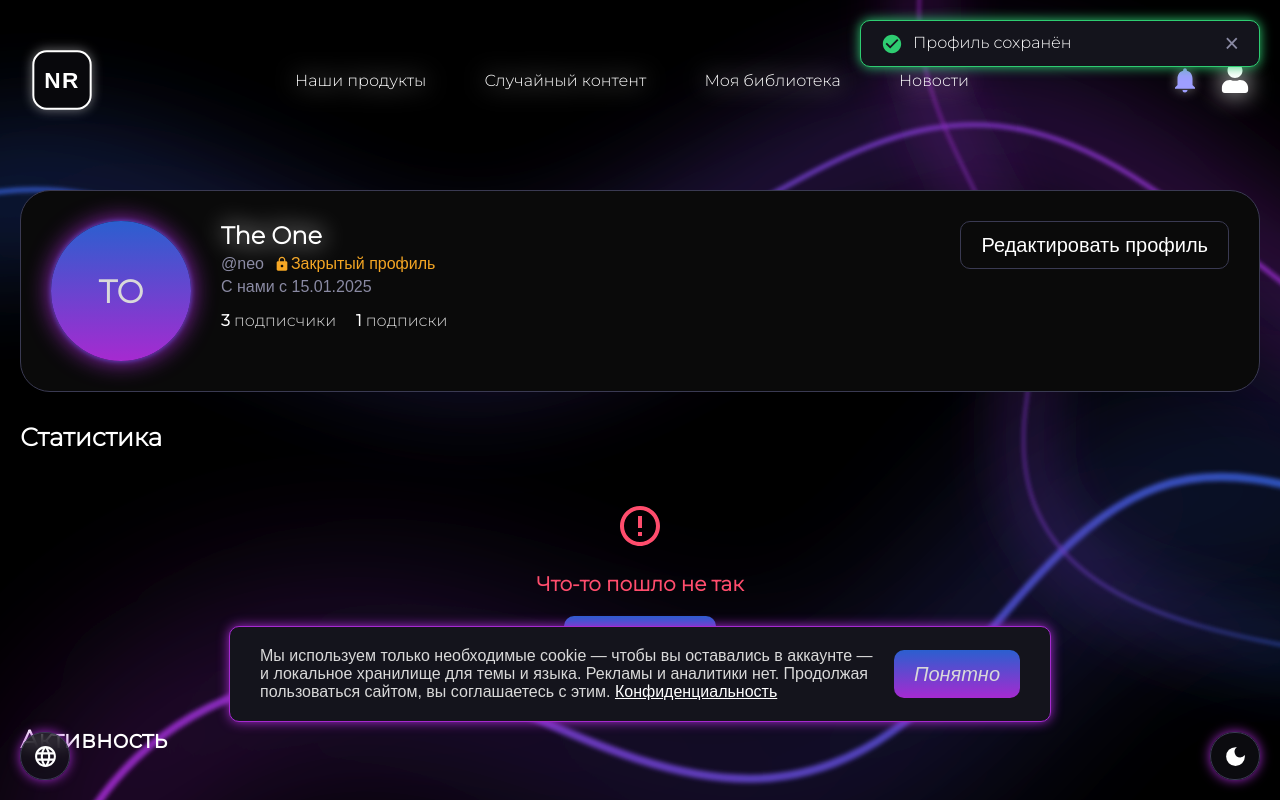
it: Own profile › edits the profile and updates the session user
This screenshot has width=1280, height=800.
Earlier steps of the test are not shown.
Expected: the heading "The One" is shown, [221,221,322,250]
Click the button named "Меню профиля neo": (1235, 80) [1220,63,1250,96]
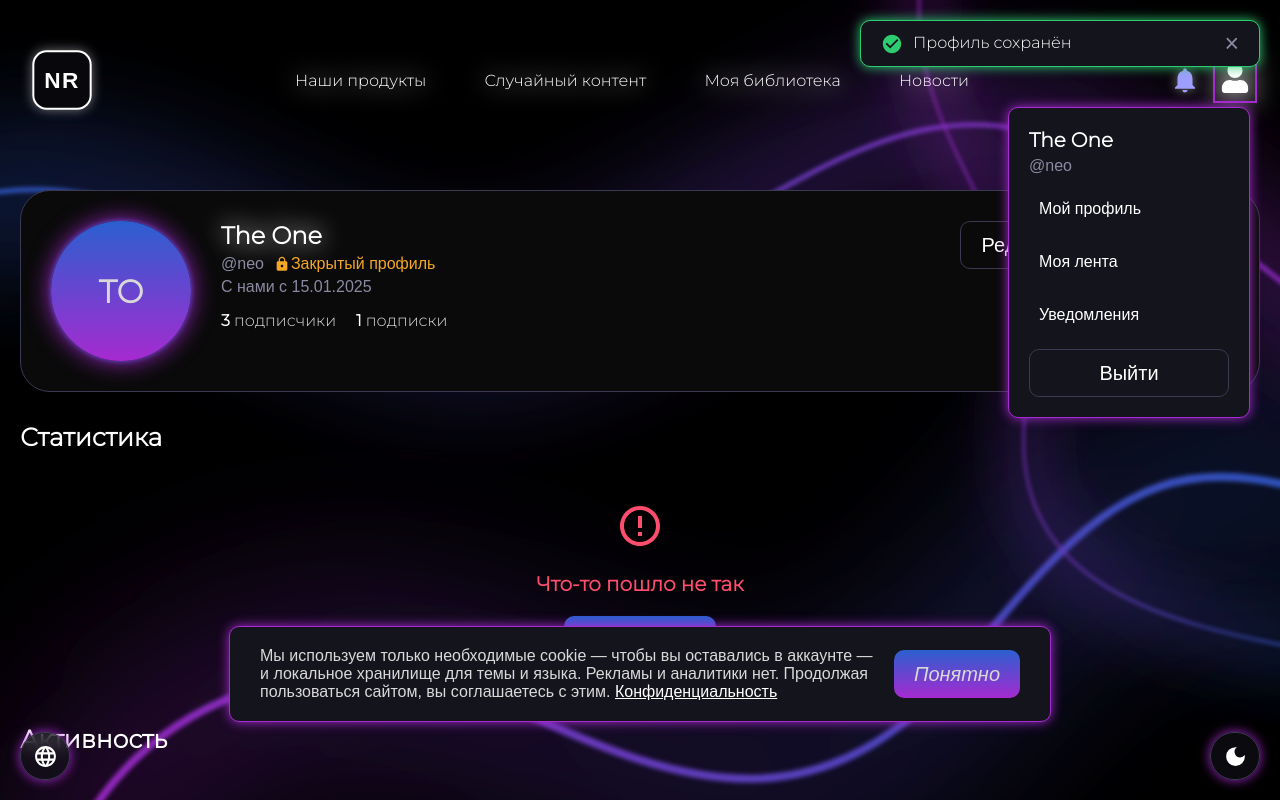
Expected: the menu shows "The One", [1029,128,1113,152]
